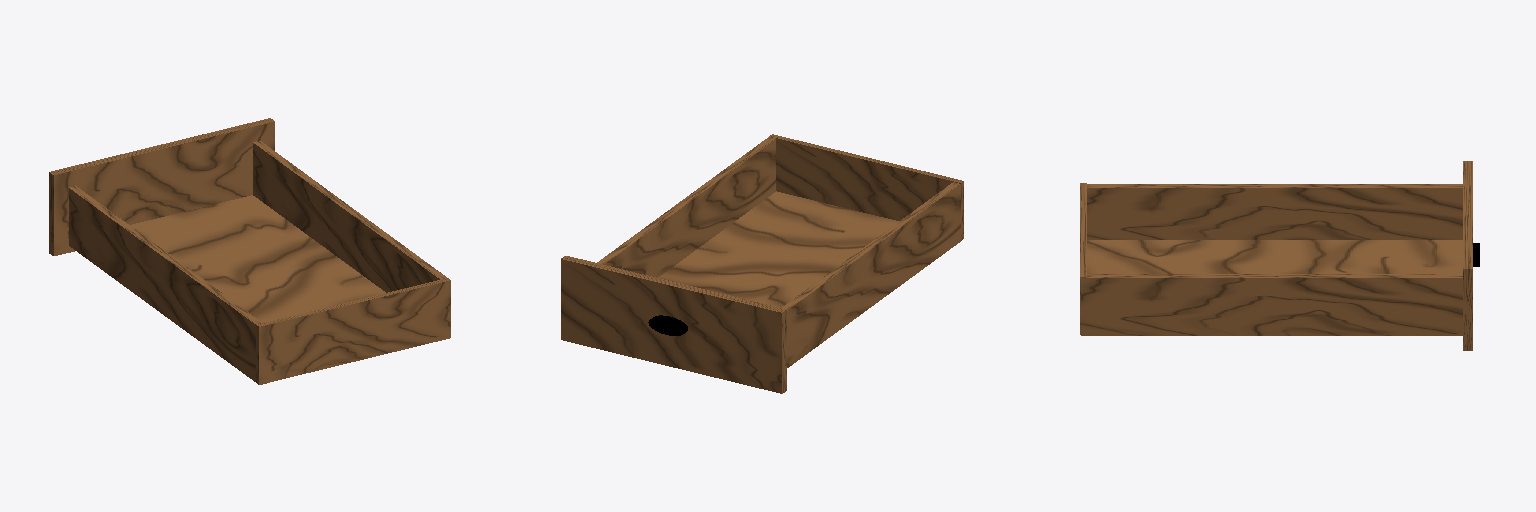
The picture shows the model from 3 angles: view 1: azimuth 30°, elevation 25°; view 2: azimuth 150°, elevation 25°; view 3: azimuth 270°, elevation 25°; orthographic projection.
Visible parts, largest first — view 1: polySurface5; view 2: polySurface5; view 3: polySurface5.
Part boxes in pixels (x1,y1,x2,y2): polySurface5: (49,118,450,384); polySurface5: (561,134,963,393); polySurface5: (1080,161,1479,350).
Size of the model in its own units: 0.6 by 0.21 by 0.9363.
Materials: 2 (1 with a texture image).